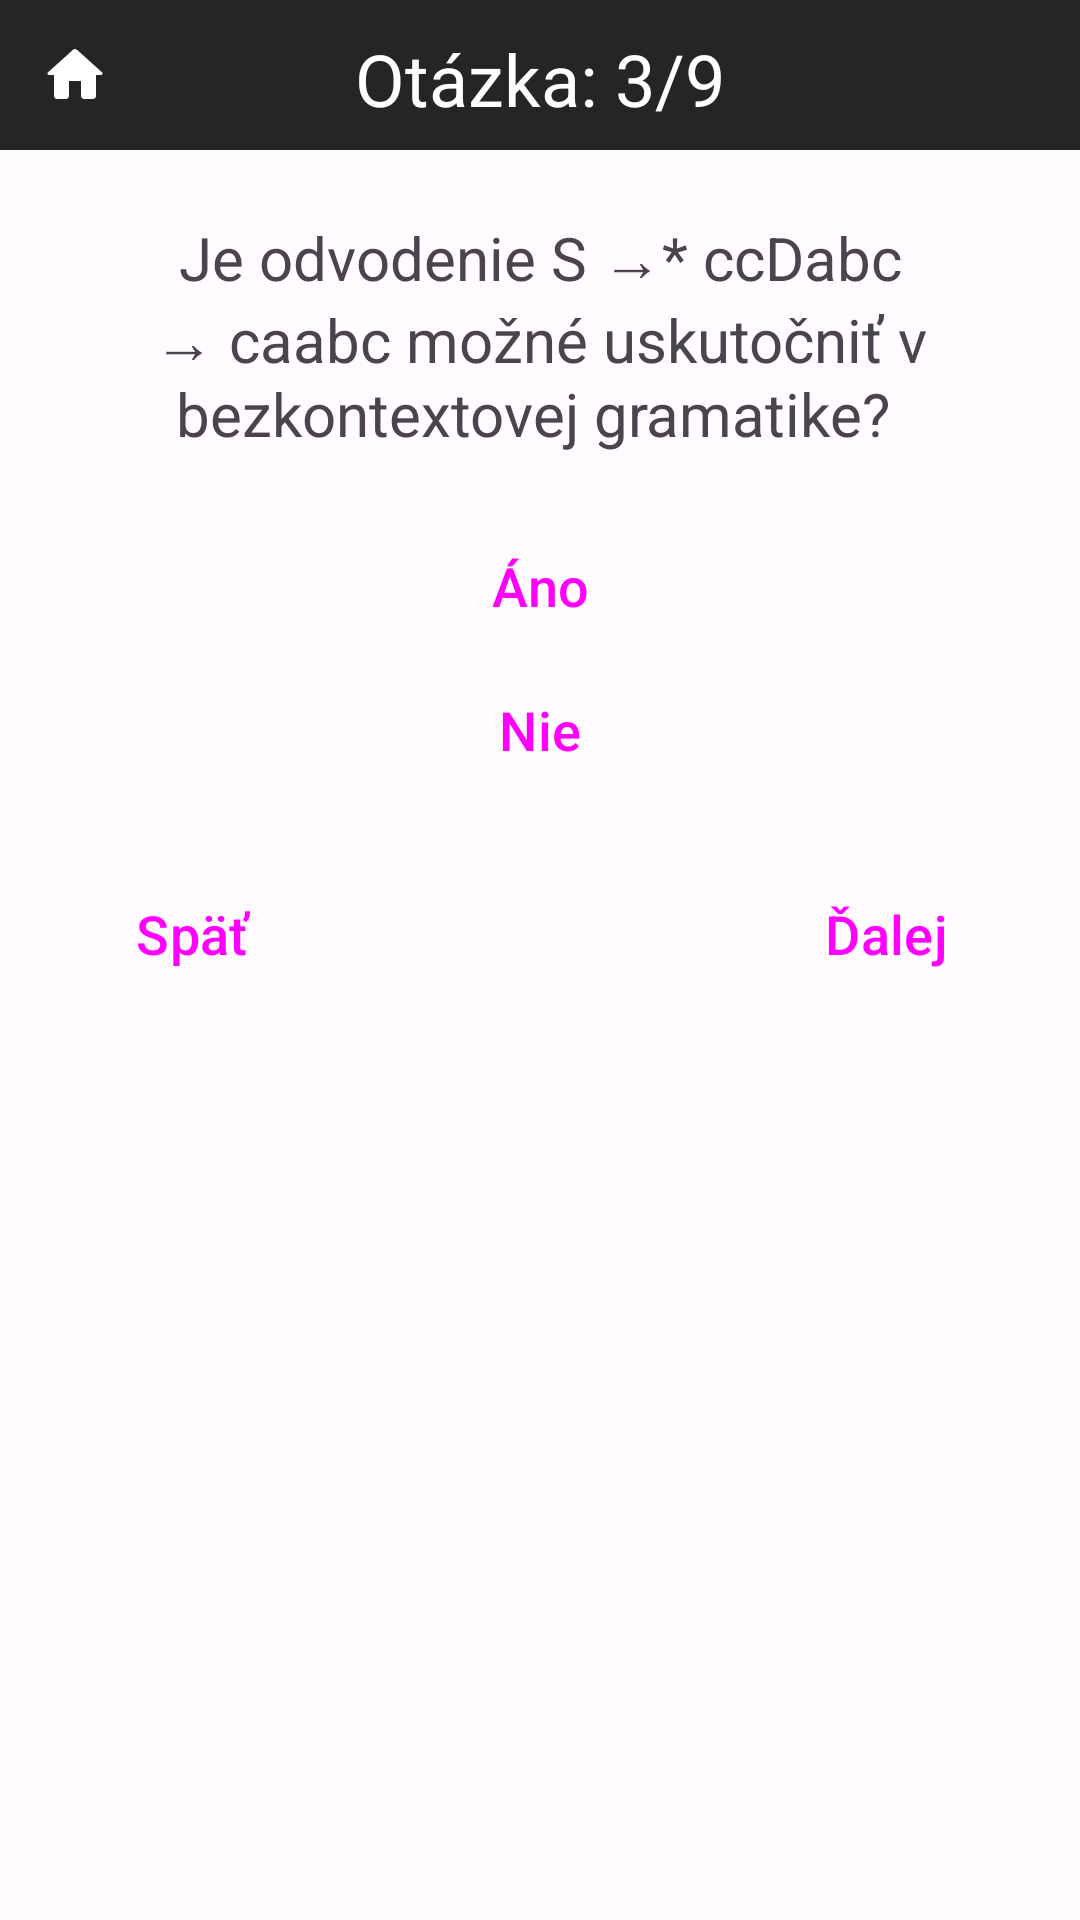

Point at icon controls on the screen. Image size 1080px x 1920px, points as (x,y).
domov: (75,74)
